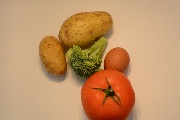broccoli: (68, 37, 107, 76)
egg: (104, 45, 132, 75)
potato: (57, 9, 115, 47), (39, 36, 67, 74)
tomato: (81, 68, 135, 120)
